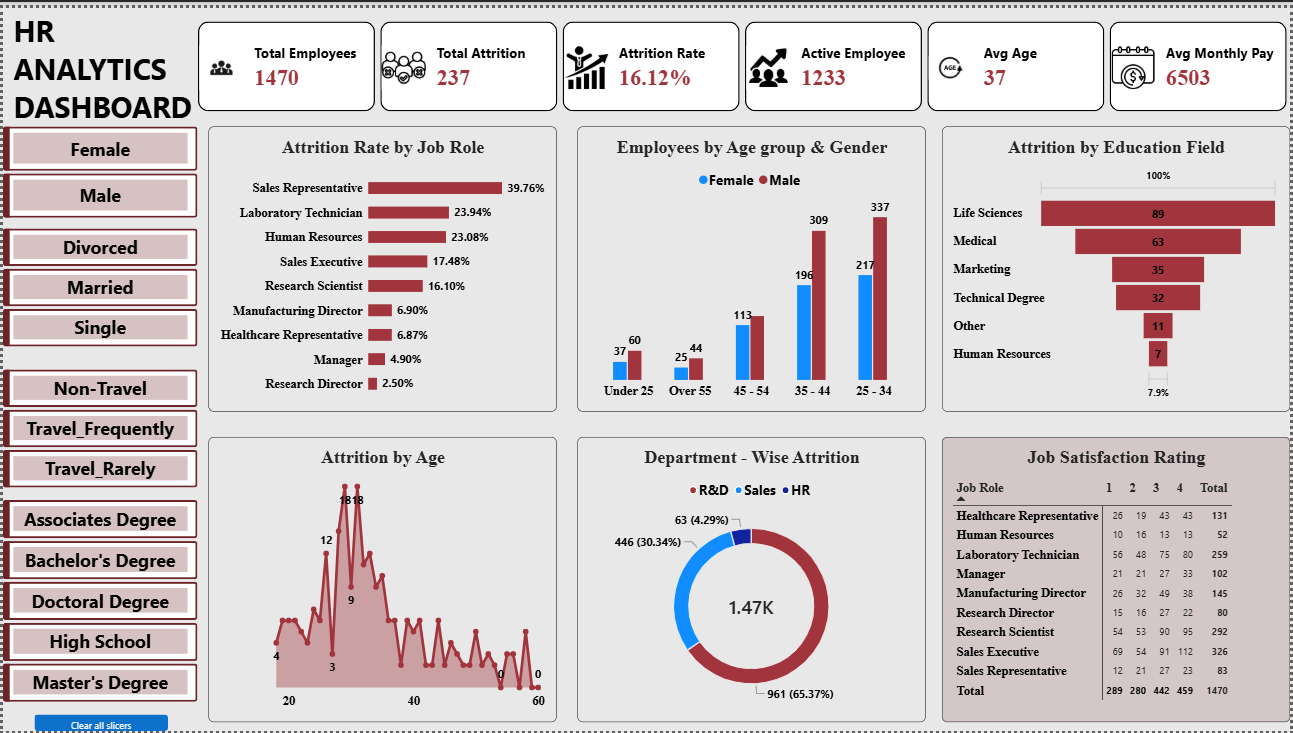

The dashboard page shown, as its layout file describes it:
{"tool":"powerbi","page":{"name":"Page 1","canvas":[1920,1080],"ordinal":0},"visuals":[{"type":"cardVisual","fields":{"Data":["HR data.Total Employees","HR data.Total Attrition","HR data.Attrition Rate","HR data.Active Employee","Avg(HR data.Age)","Avg(HR data.Monthly Income)"]},"box":[290.9,20.1,1629,134.3],"z":0},{"type":"clusteredColumnChart","title":"Employees by Age group & Gender","fields":{"Category":["HR data.Age Group"],"Series":["HR data.Gender"],"Y":["HR data.Total Employees"]},"box":[857,176.8,519.1,425.1],"z":1000},{"type":"areaChart","title":"Attrition by Age","fields":{"Category":["HR data.Age"],"Y":["HR data.Total Attrition"]},"box":[306.6,640,519.1,425.1],"z":2000},{"type":"donutChart","title":" Department - Wise Attrition","fields":{"Category":["HR data.Department"],"Y":["CountNonNull(HR data.Gender)"]},"box":[857,640,519.1,425.1],"z":3000},{"type":"barChart","fields":{"Category":["HR data.Job Role"],"Y":["HR data.Attrition Rate"]},"box":[306.6,176.8,519.1,425.1],"z":4000},{"type":"pivotTable","title":"Job Satisfaction Rating","fields":{"Columns":["HR data.Job Satisfaction"],"Rows":["HR data.Job Role"],"Values":["HR data.Total Employees"]},"box":[1400.7,640,519.1,425.1],"z":5000},{"type":"funnel","title":"Attrition by Education Field","fields":{"Category":["HR data.Education Field"],"Y":["HR data.Total Attrition"]},"box":[1400.7,176.8,519.1,425.1],"z":6000},{"type":"advancedSlicerVisual","fields":{"Values":["HR data.Gender"]},"box":[0,176.8,290.9,136.5],"z":7000},{"type":"advancedSlicerVisual","fields":{"Values":["HR data.Marital Status"]},"box":[0,328.9,290.9,176.8],"z":8000},{"type":"advancedSlicerVisual","fields":{"Values":["HR data.Business Travel"]},"box":[0,539.3,290.9,176.8],"z":9000},{"type":"advancedSlicerVisual","fields":{"Values":["HR data.Education"]},"box":[0,733.9,290.9,302.1],"z":10000},{"type":"actionButton","box":[47,1053.9,199.1,24.6],"z":11000},{"type":"textbox","box":[15.7,4.5,275.2,192.4],"z":12000}]}

Visuals, with their boxes in screenshot pixels (x1, y1, x2, y2), scaled from the page's 1920x1080 canvas onto the 1293x733 screenshot:
cardVisual - HR data.Total Employees x HR data.Total Attrition: (196, 14, 1292, 105)
"Employees by Age group & Gender" clusteredColumnChart: (577, 120, 927, 409)
"Attrition by Age" areaChart: (206, 434, 556, 723)
" Department - Wise Attrition" donutChart: (577, 434, 927, 723)
barChart - HR data.Job Role x HR data.Attrition Rate: (206, 120, 556, 409)
"Job Satisfaction Rating" pivotTable: (943, 434, 1292, 723)
"Attrition by Education Field" funnel: (943, 120, 1292, 409)
advancedSlicerVisual - HR data.Gender: (0, 120, 196, 213)
advancedSlicerVisual - HR data.Marital Status: (0, 223, 196, 343)
advancedSlicerVisual - HR data.Business Travel: (0, 366, 196, 486)
advancedSlicerVisual - HR data.Education: (0, 498, 196, 703)
actionButton: (32, 715, 166, 732)
textbox: (11, 3, 196, 134)
